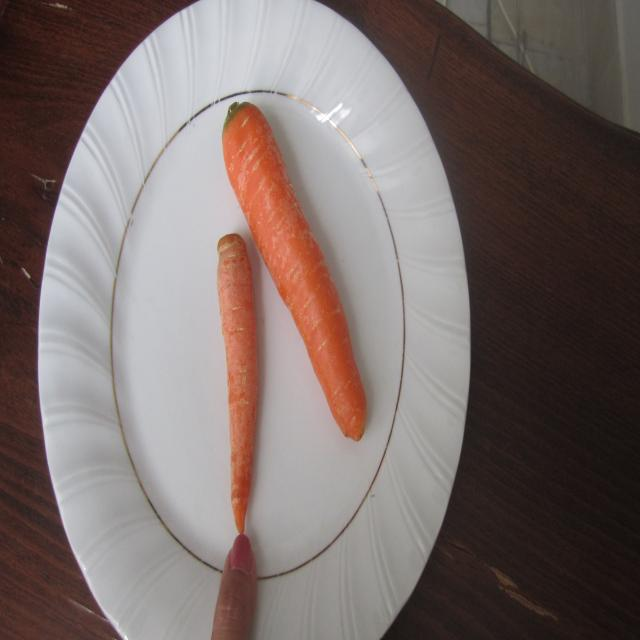carrot: (197, 98, 422, 540)
